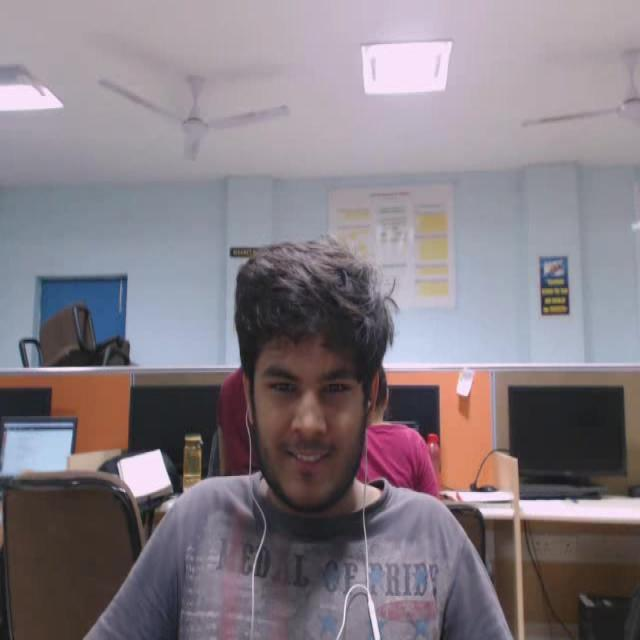Engaged: (221, 245, 423, 520)
